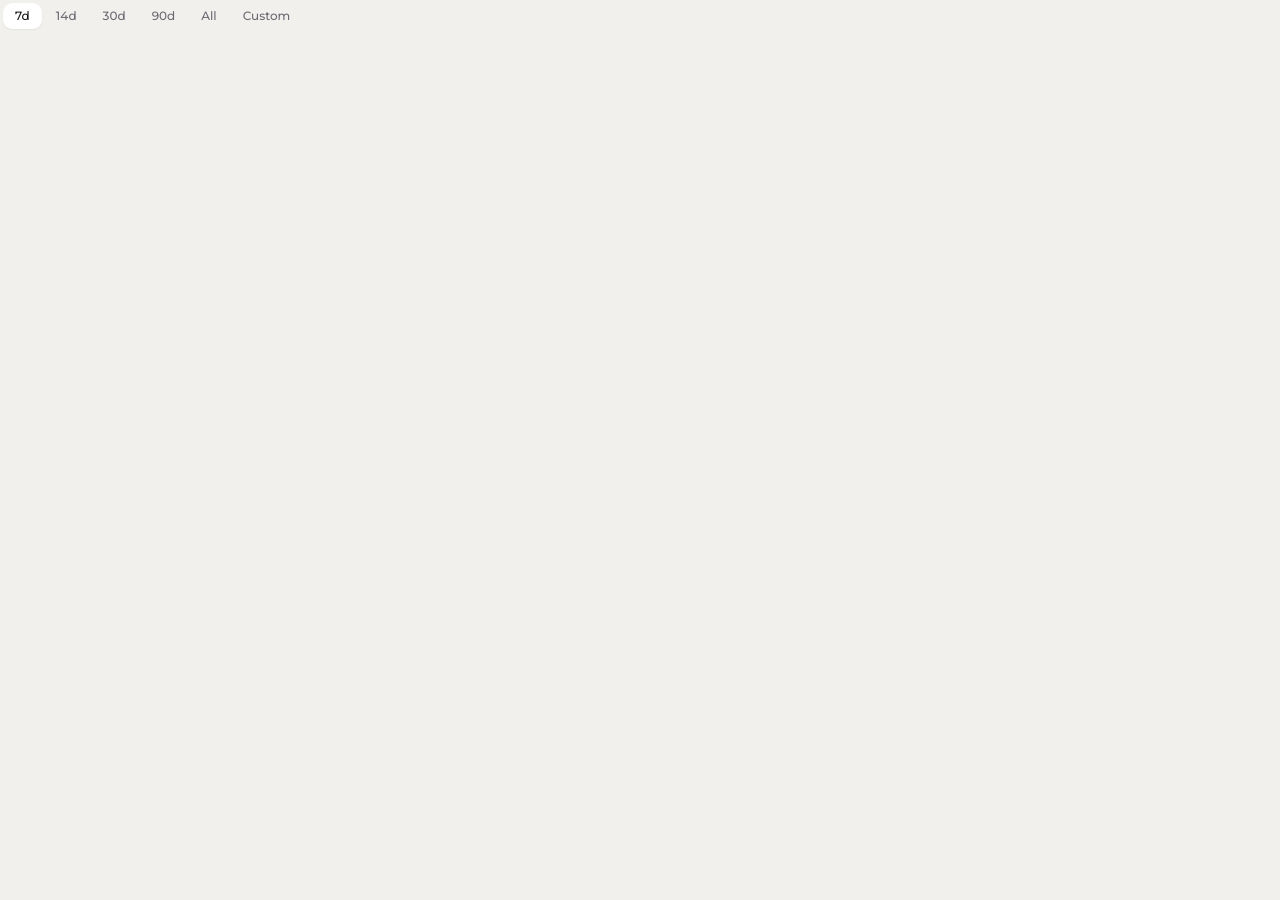
Test: TimeRangeControl › opens and applies the shared custom time range
Click the button "Custom": (266, 16) [231,3,302,29]
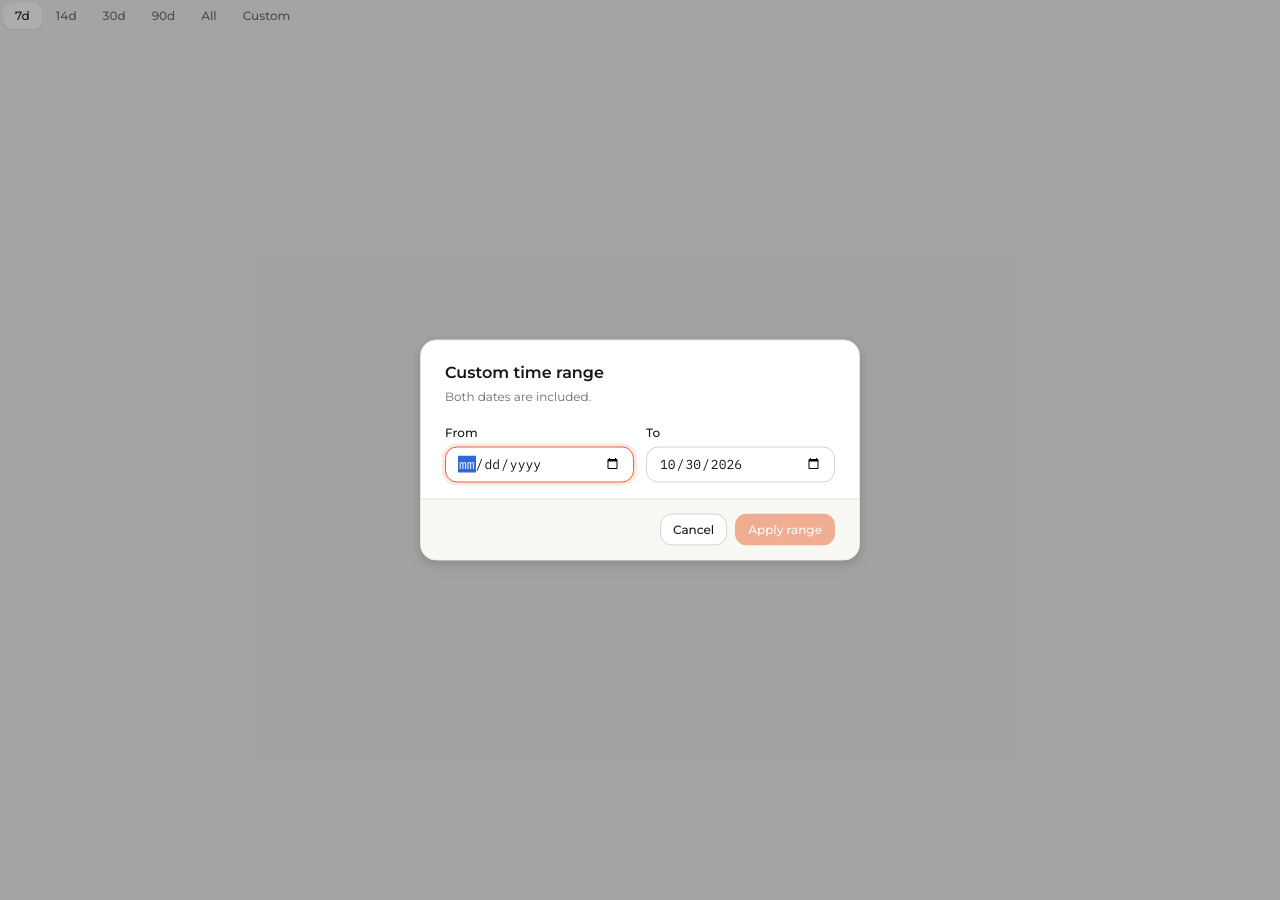
Now the dialog "Custom time range" is shown, box [420,340,860,560]
In the date field labelled "From": (540, 464) [445,446,634,482], type "2026-07-01"
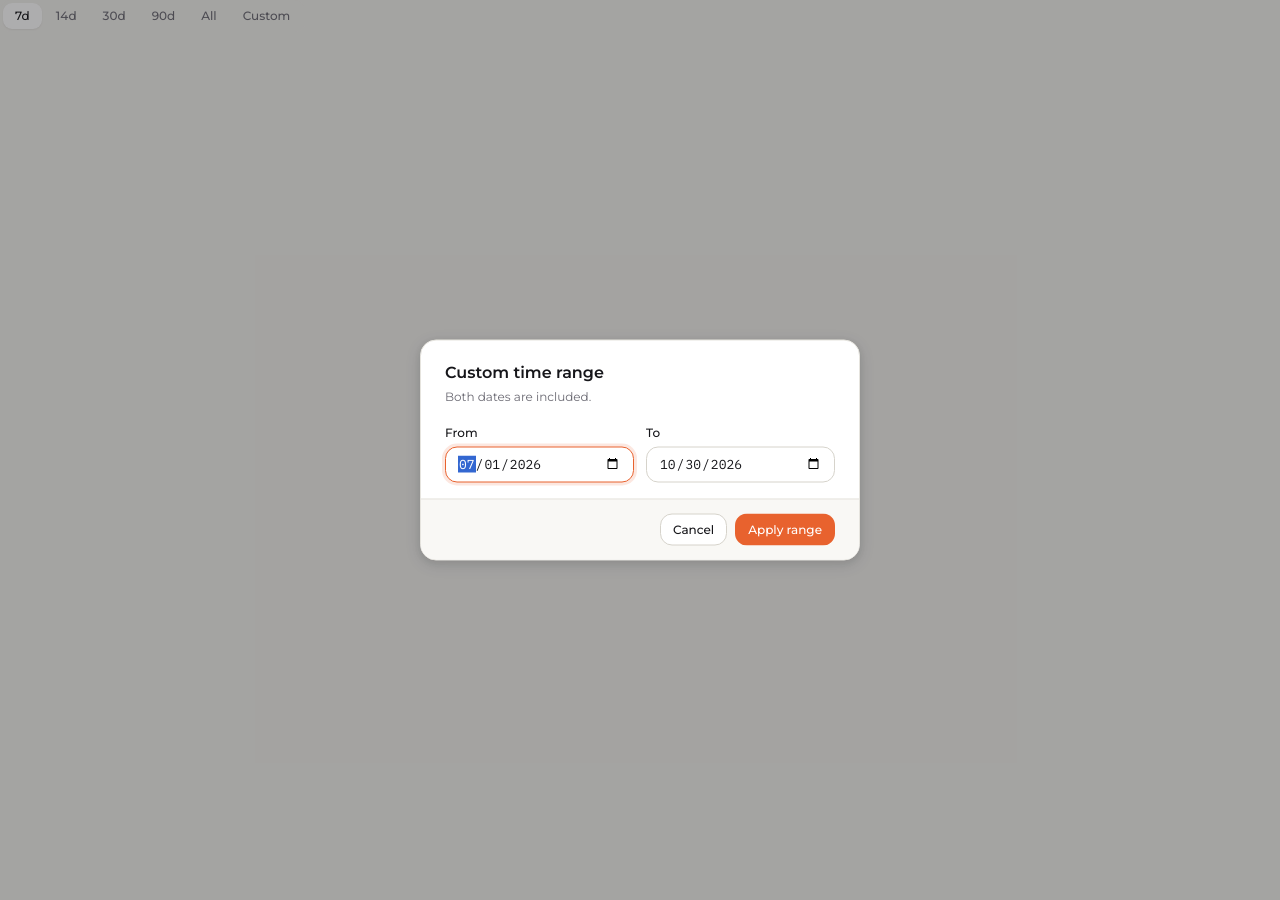
In the date field labelled "To": (740, 464) [646,446,835,482], type "2026-07-14"
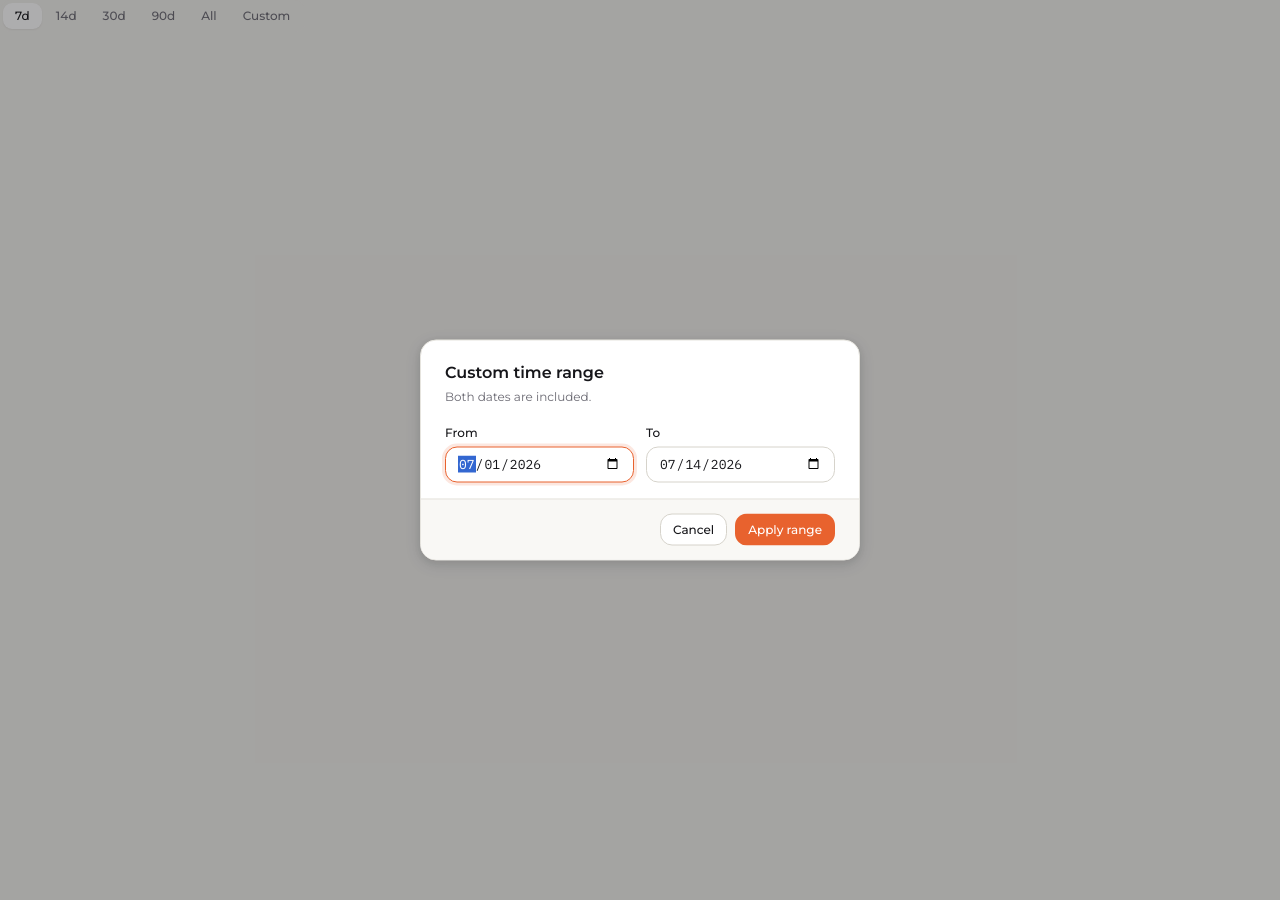
Click the button "Apply range": (785, 530) [735,514,835,546]
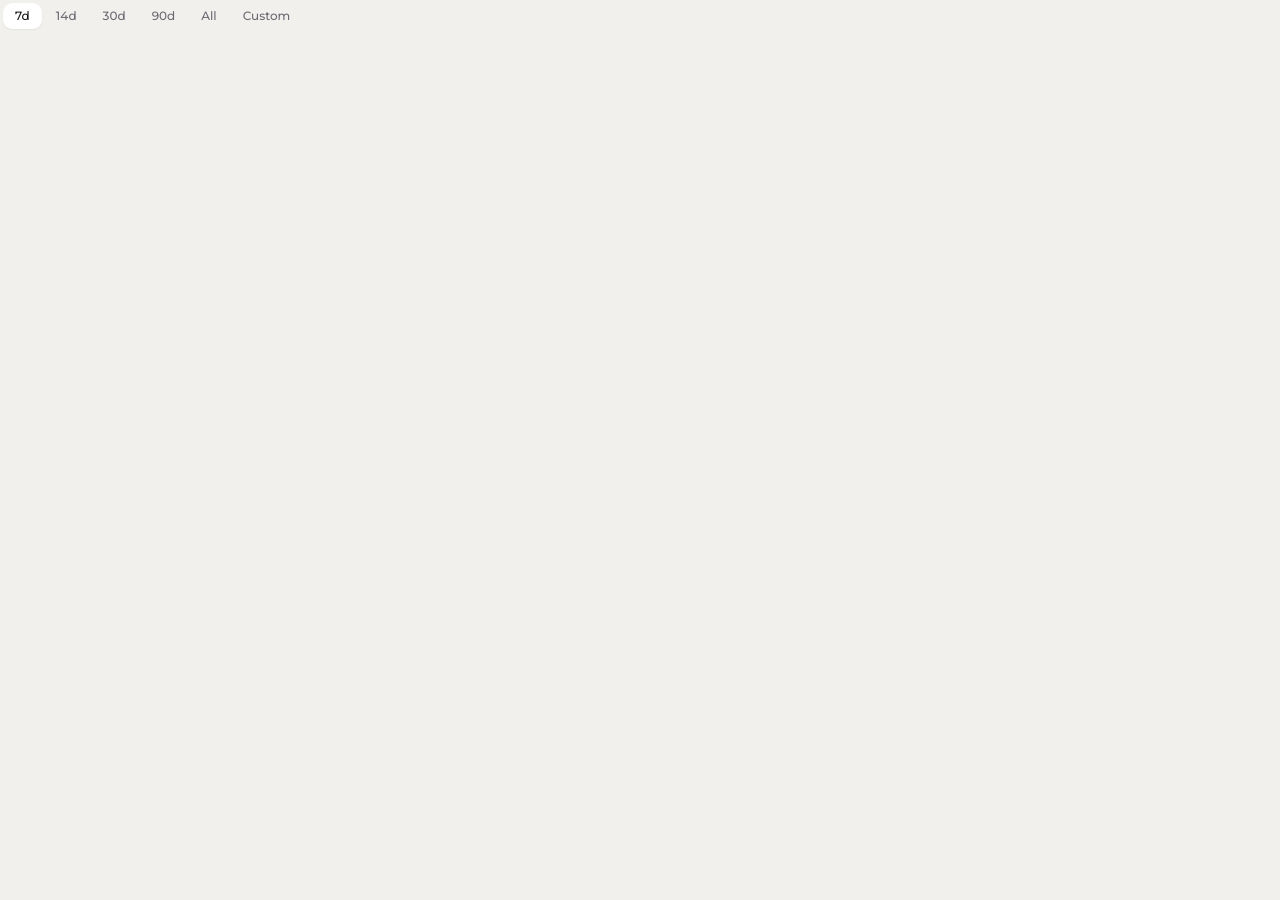
Now the dialog is gone
